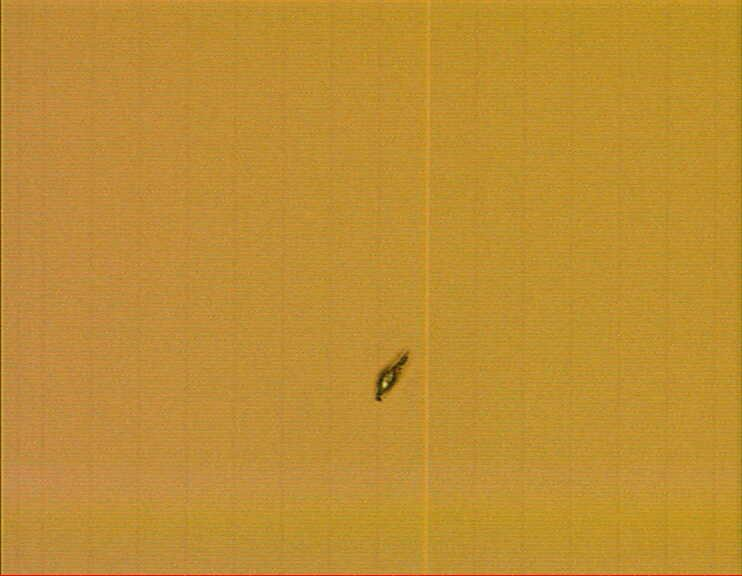PIQ PARTICLE: (371, 345, 418, 405)
